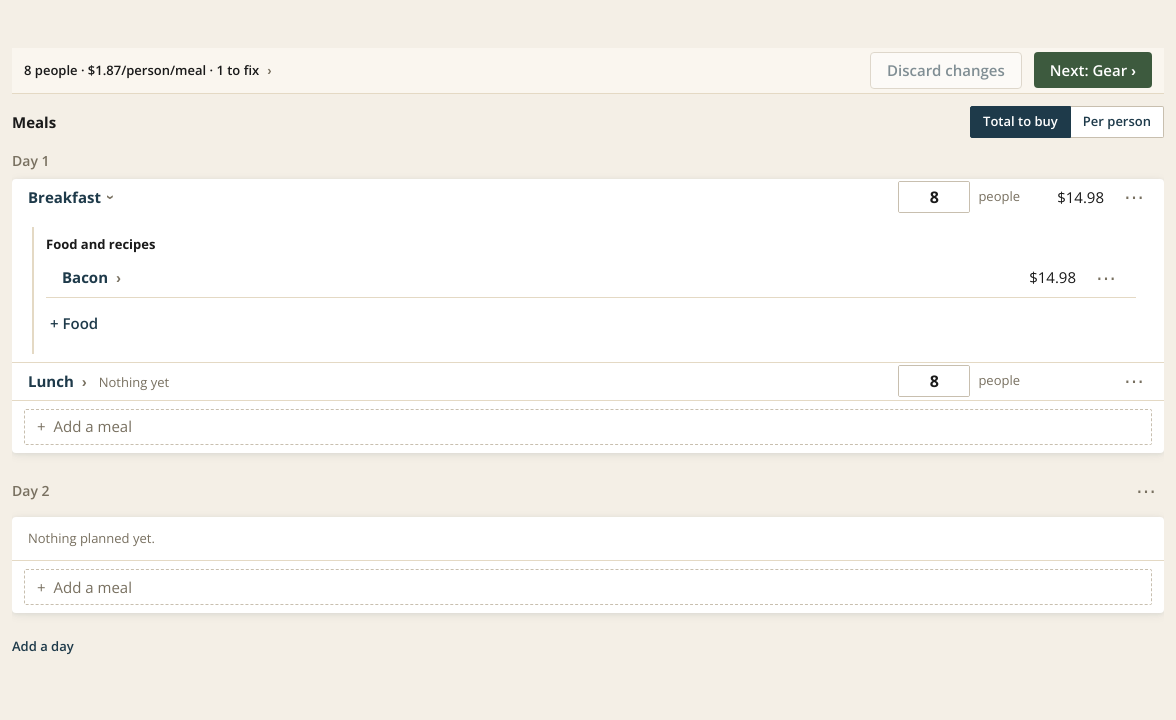
Test: MealEditor › add, swap, remove › Search_OnlyOffersRecipesThatFitTheSlot
Click the button "+ Food": (74, 324) [46,302,102,346]
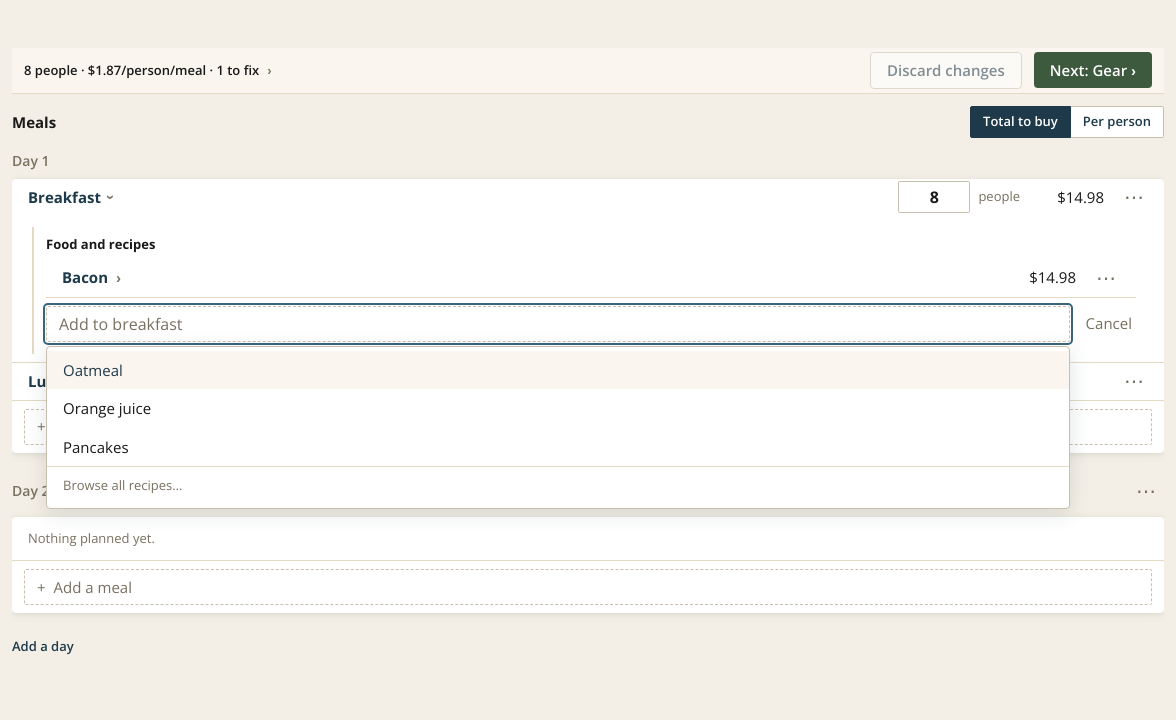
In the dropdown: (558, 324) [46,306,1070,342], type "Sand"
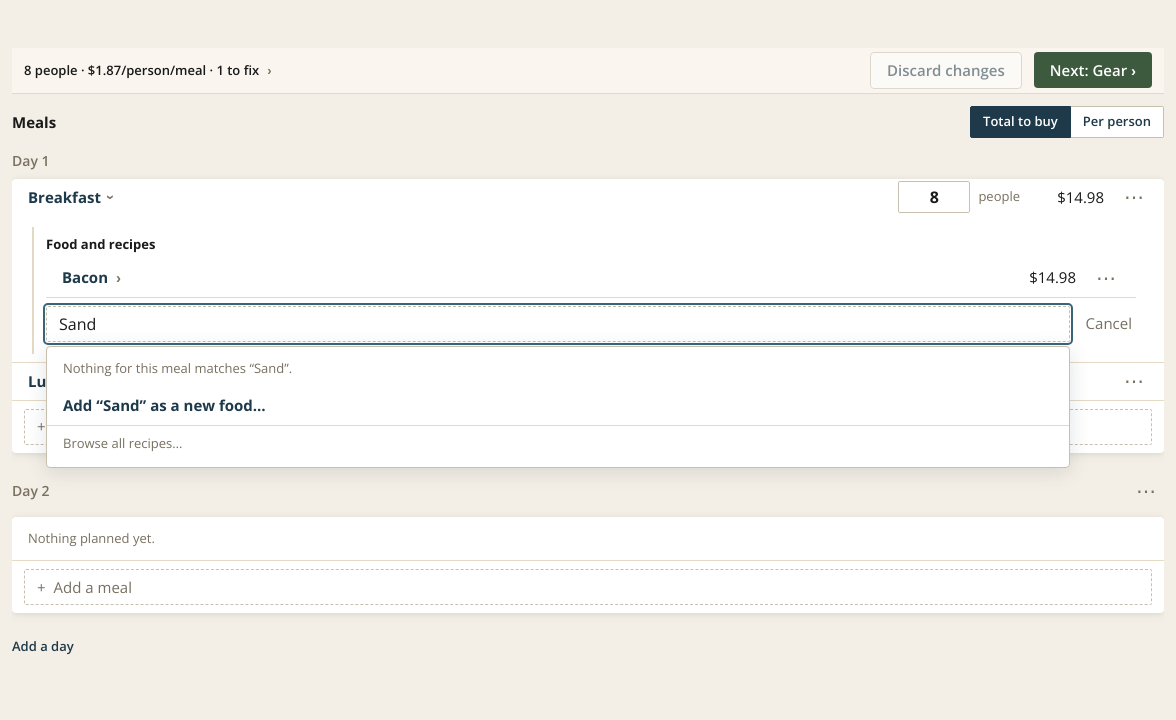
Result: the options read "Add “Sand” as a new food…", "Browse all recipes…", in this order at [63,395,266,415]; [47,424,1069,462]
